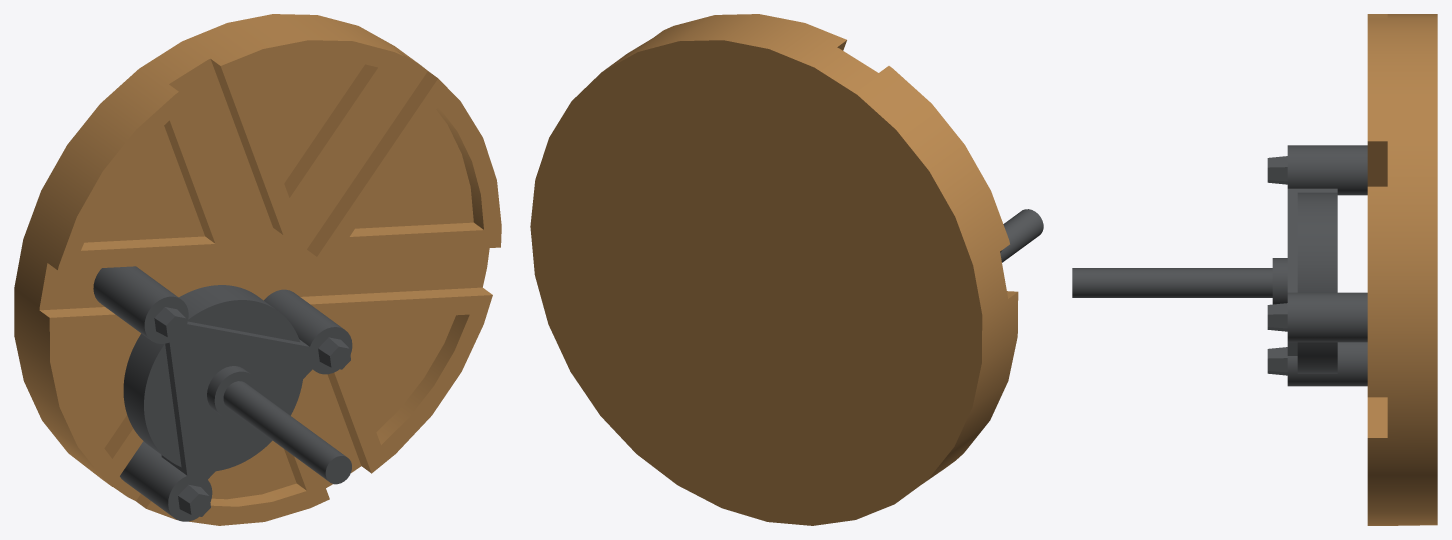
Rendered from MultipleGearing.24.dae.
3 renders of one model, left to right at view 1: azimuth 30°, elevation 25°; view 2: azimuth 150°, elevation 25°; view 3: azimuth 270°, elevation 25°, orthographic. The views are drawn at different scales.
Visible parts, largest first — view 1: Actor0, Actor1; view 2: Actor0, Actor1; view 3: Actor0, Actor1.
Part boxes in pixels (x1,y1,x2,y2): Actor0: [14, 14, 501, 525]; Actor1: [93, 266, 352, 521]; Actor0: [530, 14, 1018, 525]; Actor1: [1000, 209, 1043, 262]; Actor0: [1367, 14, 1437, 525]; Actor1: [1072, 145, 1367, 386].
Bounding box in the file's own units: 0.2555 × 0.2556 × 0.1825.
